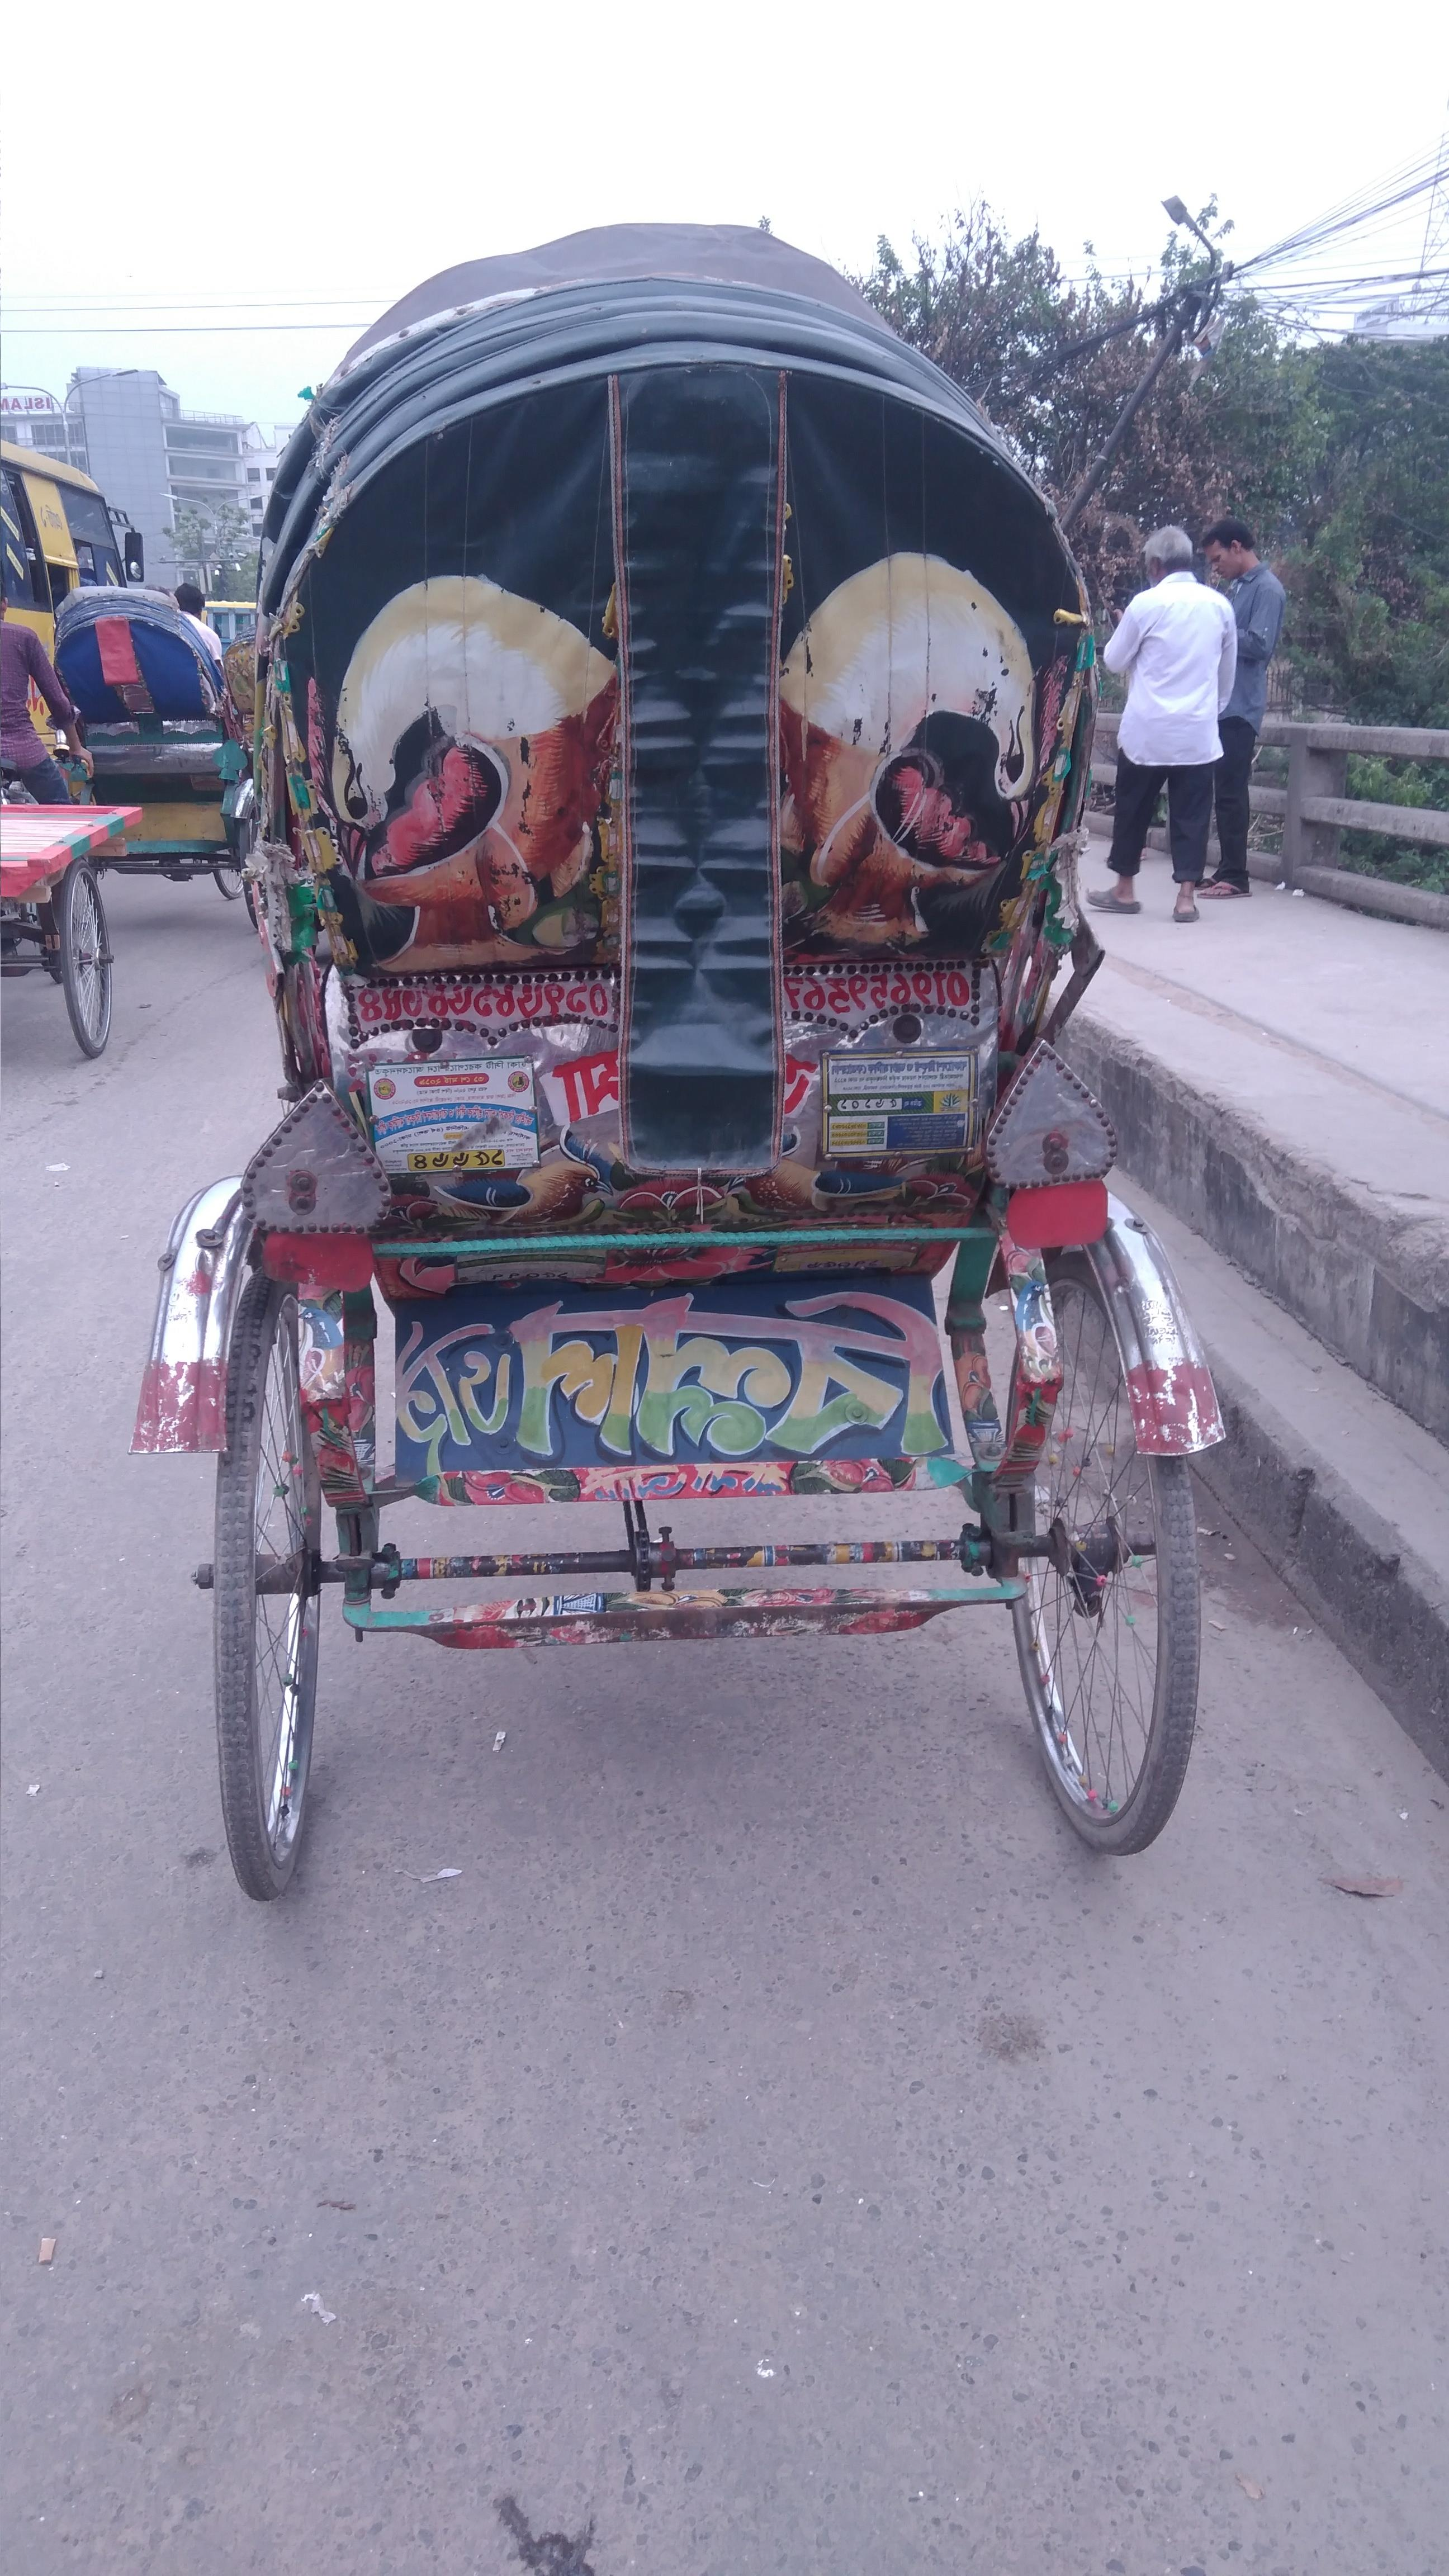Rickshaw: (195, 170, 1246, 1870), (42, 543, 249, 1017)
